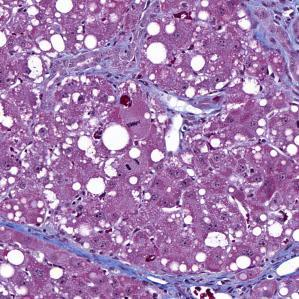fibrosis: (29, 227, 145, 278), (246, 0, 298, 101), (158, 270, 253, 299)
